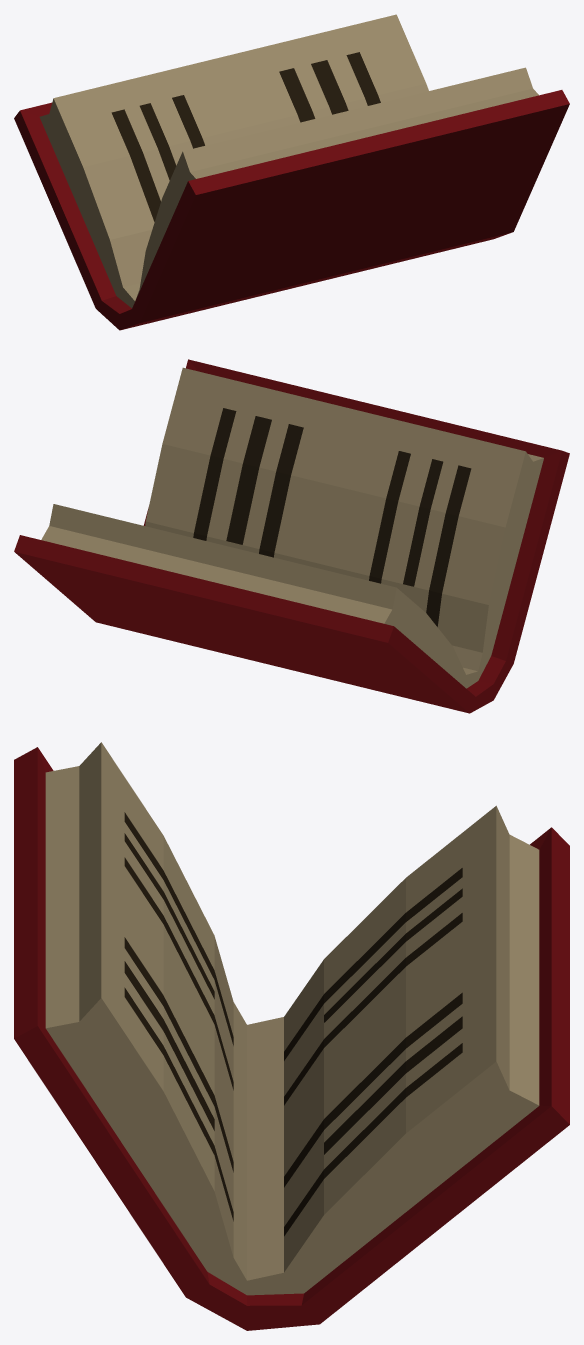
File: Book3.obj
The picture shows the model from 3 angles, top to bottom: view 1: azimuth 30°, elevation 25°; view 2: azimuth 150°, elevation 25°; view 3: azimuth 270°, elevation 25°; orthographic projection. The views are drawn at different scales.
Visible parts, largest first — view 1: Book3_Cube.023; view 2: Book3_Cube.023; view 3: Book3_Cube.023.
Boxes of the visible parts, x1=… form: Book3_Cube.023: x1=14, y1=14, x2=569, y2=330; Book3_Cube.023: x1=14, y1=359, x2=569, y2=713; Book3_Cube.023: x1=14, y1=742, x2=569, y2=1330.
Bounding box in the file's own units: 1.19 × 0.6418 × 1.01.
